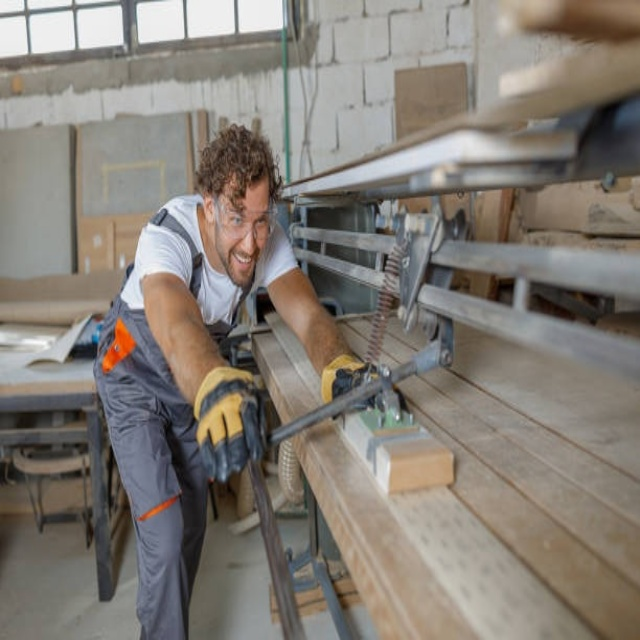Gafas: (215, 195, 276, 242)
Guantes: (194, 366, 266, 484), (320, 354, 385, 412)
Sin_mascara: (229, 246, 257, 281)
